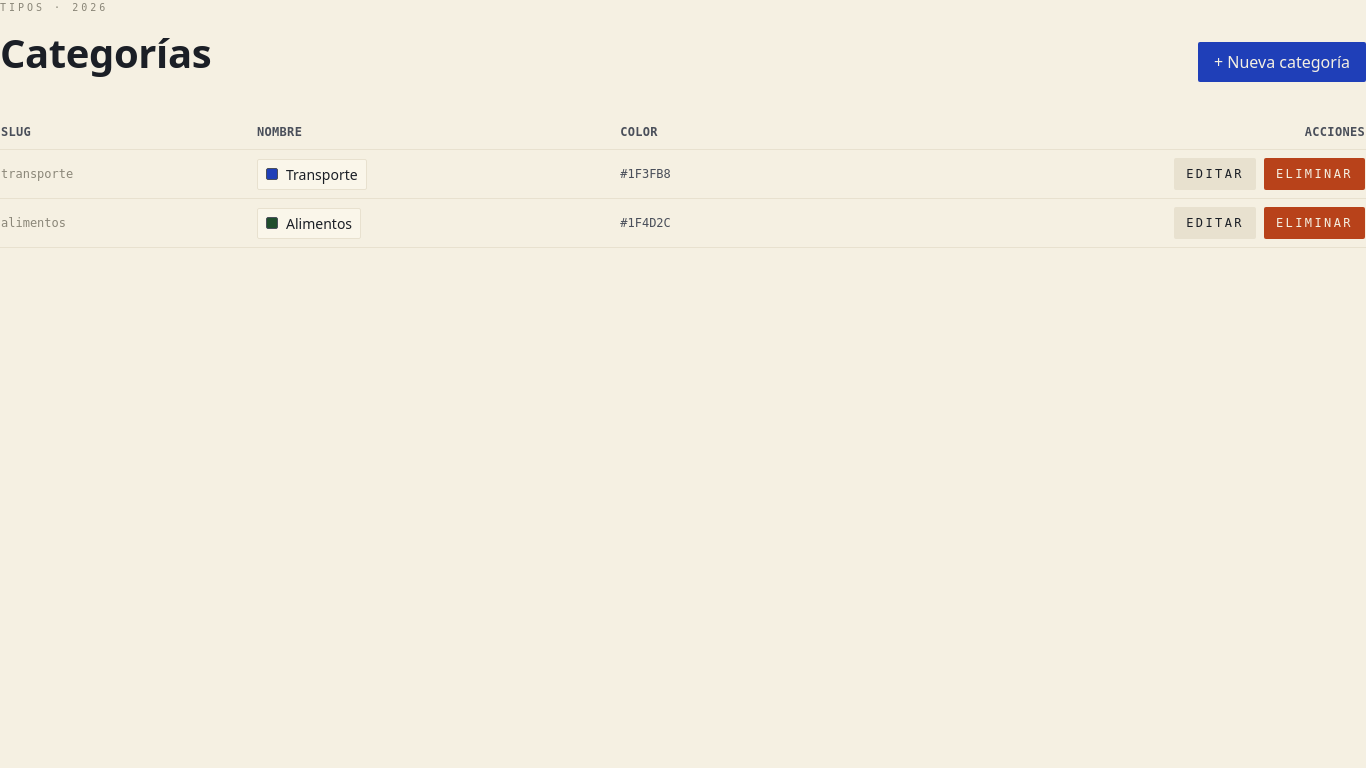
CategoriesAdminPage — full CRUD with modals › clicking "+ Nueva categoría" opens a modal with the create form
The width and height of the screenshot is (1366, 768).
Step 1. Click the button "+ Nueva categoría" → (1282, 62), box [1198, 42, 1365, 82]
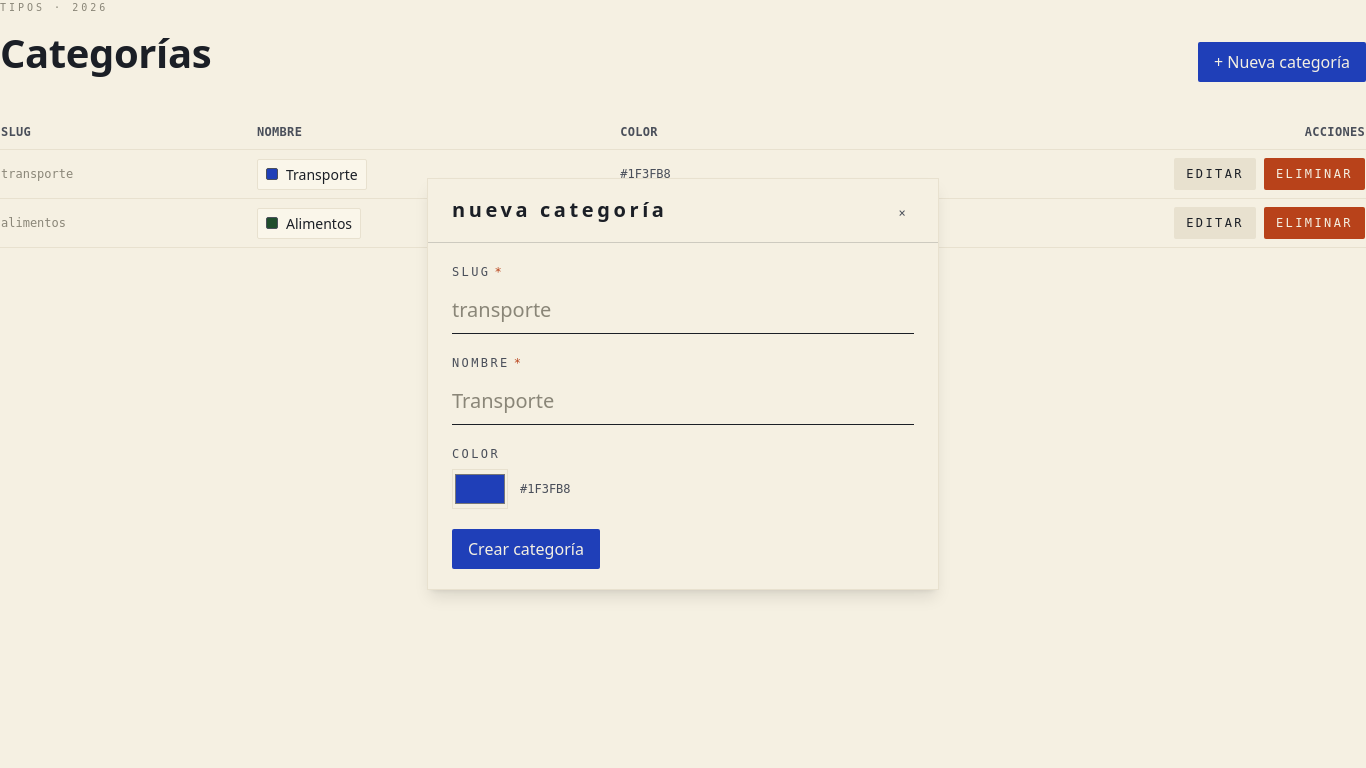
Check: the dialog is shown, box [427, 178, 939, 590]
Check: the field labelled "Slug*" is shown, box [452, 287, 914, 334]
Check: the field labelled "Nombre*" is shown, box [452, 378, 914, 425]
